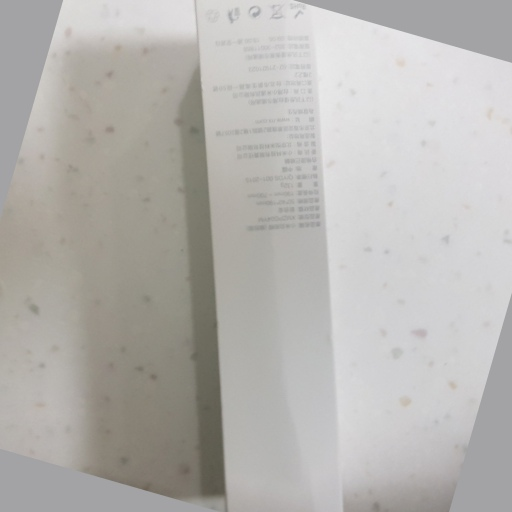Paper_0: (183, 1, 351, 512)
